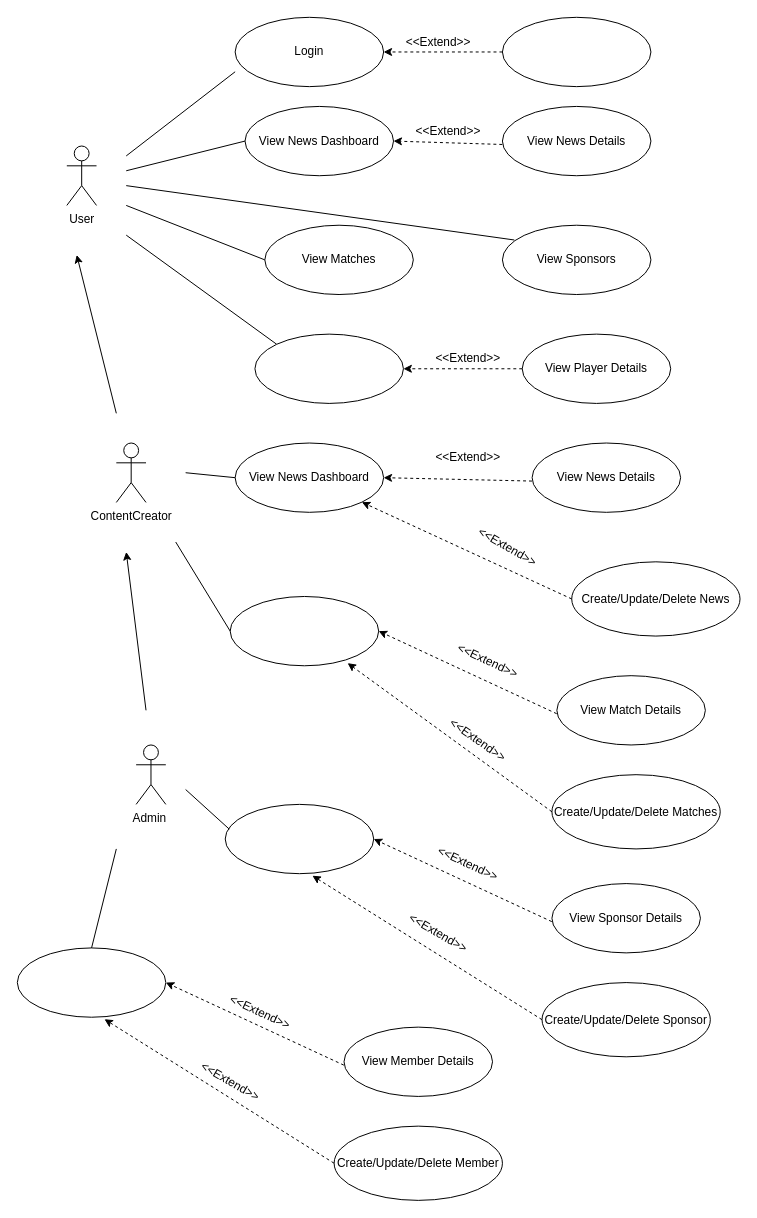
Some shapes in this 757 by 1218 pixel diagram are drawn without their labels. Each missing label, with the box of its shape:
Create Account: (501, 16, 651, 87)
View Matches Dashboard: (229, 595, 379, 666)
View Members Dashboard: (16, 947, 166, 1017)
View Players Main Team and Juvenil: (254, 333, 403, 403)
View Sponsors Dashboard: (224, 803, 374, 874)
